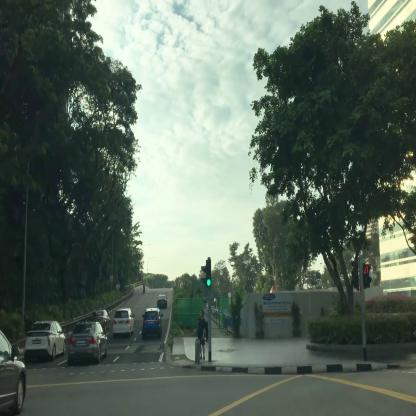green_traffic_light: (206, 258, 210, 286)
